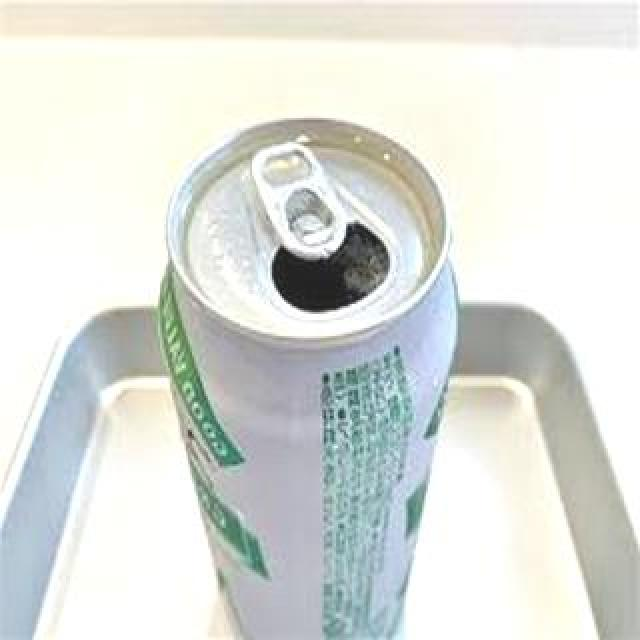Can: (161, 108, 459, 640)
